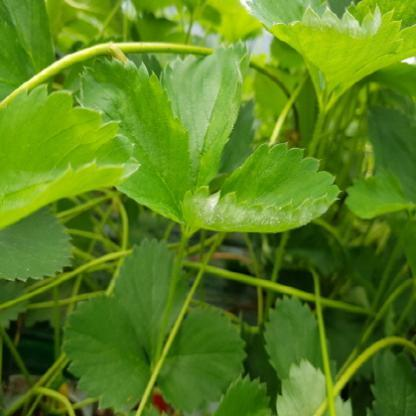Strawberry_Powdery_Mildew_Leaf: (180, 142, 343, 234), (162, 40, 249, 188)
